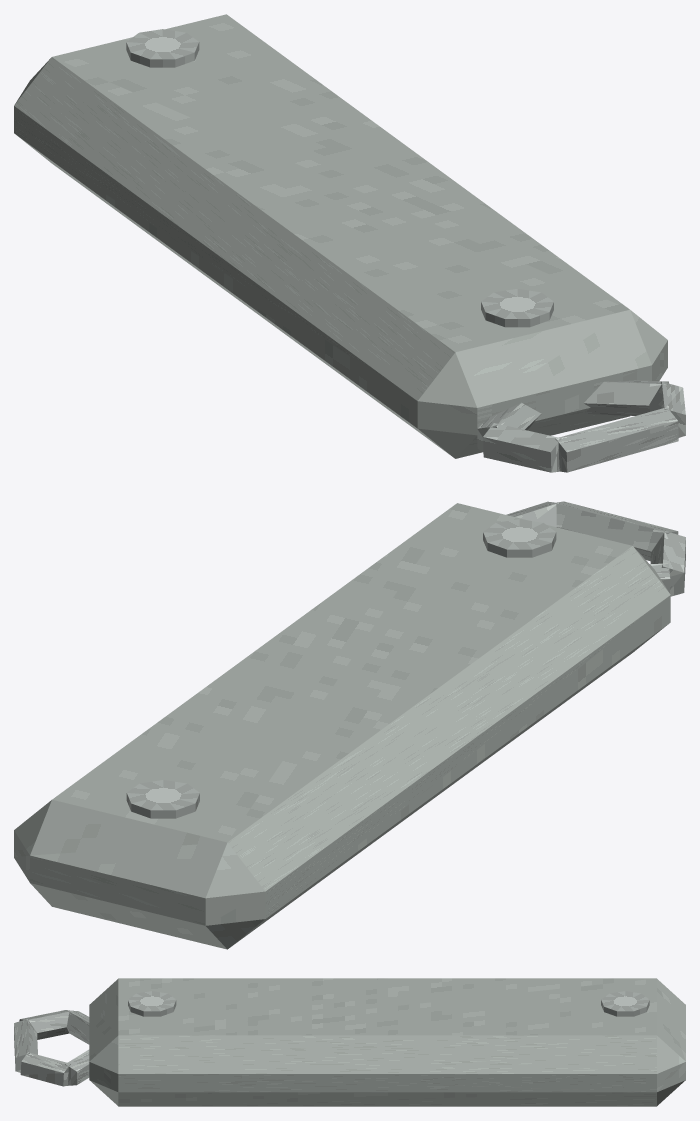
The model's file is camping_multitool.glb.
3 views of the same model, one above another, from view 1: azimuth 30°, elevation 25°; view 2: azimuth 150°, elevation 25°; view 3: azimuth 270°, elevation 25° (orthographic). The views are drawn at different scales.
Visible parts, largest first — view 1: block_closed folding tool case, block_pivot (×2), block_carry loop 2, block_carry loop 1, block_carry loop 4, block_carry loop 0, block_carry loop 3; view 2: block_closed folding tool case, block_pivot (×2), block_carry loop 2, block_carry loop 1, block_carry loop 3; view 3: block_closed folding tool case, block_pivot (×2), block_carry loop 3, block_carry loop 1, block_carry loop 2, block_carry loop 4, block_carry loop 0.
Boxes of the visible parts, box(x1,y1,x2,y2) form: block_closed folding tool case: box(14, 14, 667, 458); block_pivot (×2): box(126, 29, 553, 327); block_carry loop 2: box(555, 407, 678, 472); block_carry loop 1: box(483, 423, 561, 472); block_carry loop 4: box(583, 380, 668, 415); block_carry loop 0: box(477, 402, 541, 451); block_carry loop 3: box(649, 381, 685, 437); block_closed folding tool case: box(14, 503, 670, 949); block_pivot (×2): box(126, 519, 556, 818); block_carry loop 2: box(553, 501, 678, 561); block_carry loop 1: box(650, 531, 685, 596); block_carry loop 3: box(506, 501, 558, 527); block_closed folding tool case: box(89, 978, 685, 1106); block_pivot (×2): box(128, 991, 649, 1016); block_carry loop 3: box(20, 1052, 70, 1086); block_carry loop 1: box(19, 1010, 72, 1039); block_carry loop 2: box(14, 1019, 37, 1072); block_carry loop 4: box(65, 1049, 89, 1085); block_carry loop 0: box(66, 1010, 89, 1044).
Bounding box in the file's own units: 0.0344 × 0.0151 × 0.12.
Materials: 1 (1 with a texture image).
